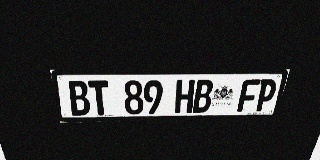8: (124, 80, 143, 114)
9: (144, 80, 163, 114)
B: (66, 81, 91, 116), (192, 80, 214, 113)
F: (237, 79, 261, 112)
H: (174, 80, 195, 113)
P: (254, 79, 278, 111)
T: (88, 80, 110, 115)
